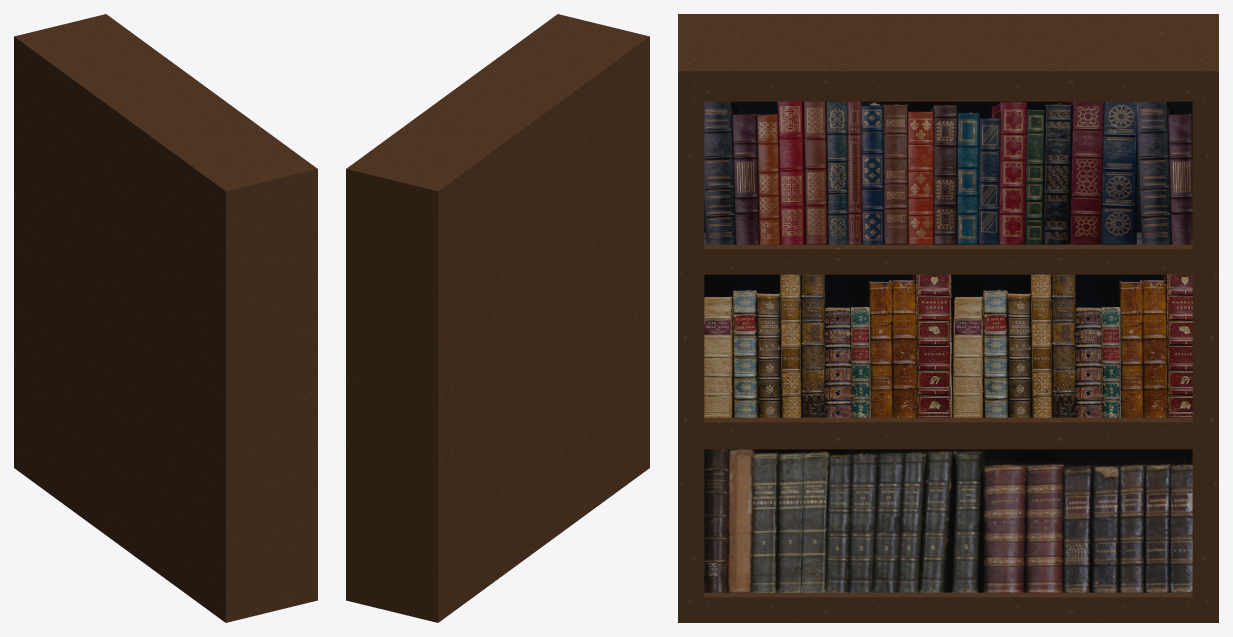
Rendered from bookshelf.fbx.
3 views of the same model, side by side, from view 1: azimuth 30°, elevation 25°; view 2: azimuth 150°, elevation 25°; view 3: azimuth 270°, elevation 25° (orthographic). The views are drawn at different scales.
Visible parts, largest first — view 1: Cube; view 2: Cube; view 3: Cube, Plane, Plane.001, Plane.002.
Boxes of the visible parts, x1,y1,x2,y2 form: Cube: [14, 14, 317, 622]; Cube: [346, 14, 649, 622]; Cube: [678, 14, 1218, 622]; Plane: [704, 449, 1192, 592]; Plane.001: [704, 274, 1192, 417]; Plane.002: [704, 101, 1192, 244].
Size of the model in its own units: 200 by 896 by 796.
